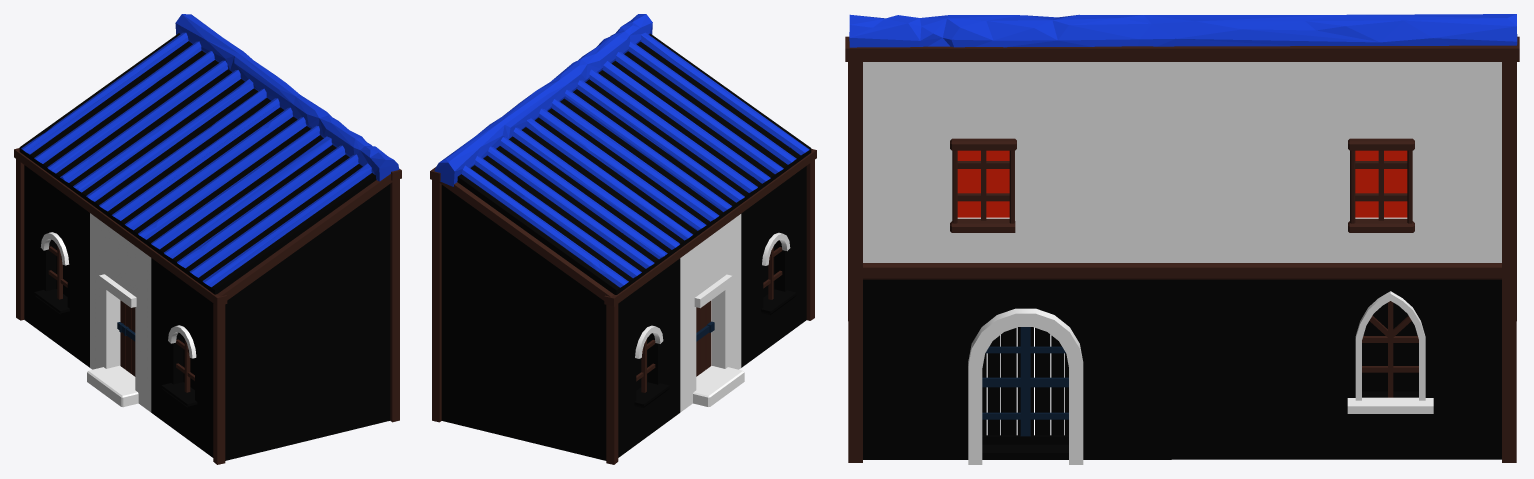
File: civilian_house_41_a.FBX
3 views of the same model, side by side, from view 1: azimuth 30°, elevation 25°; view 2: azimuth 150°, elevation 25°; view 3: azimuth 270°, elevation 25° (orthographic). The views are drawn at different scales.
Visible parts, largest first — view 1: civilian_house_41_a; view 2: civilian_house_41_a; view 3: civilian_house_41_a.
Part boxes in pixels (x1,y1,x2,y2): civilian_house_41_a: (14,14,401,464); civilian_house_41_a: (430,14,816,464); civilian_house_41_a: (845,14,1519,464).
Bounding box in the file's own units: 591 × 738 × 1031.
